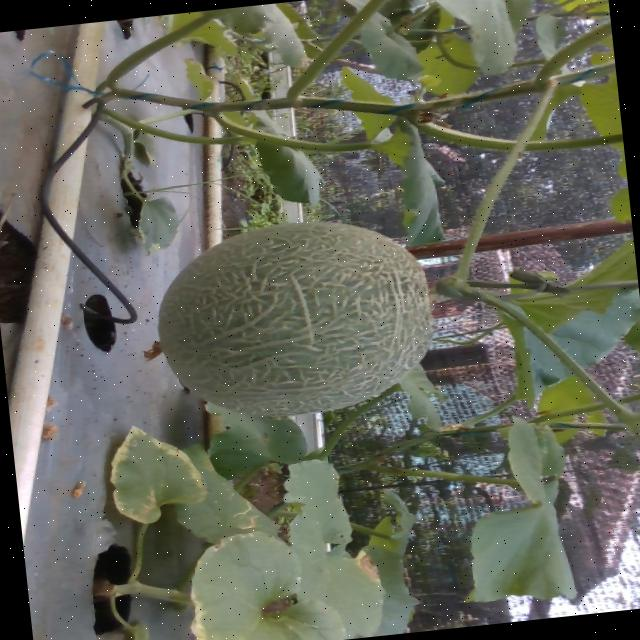melon: (158, 222, 431, 417)
